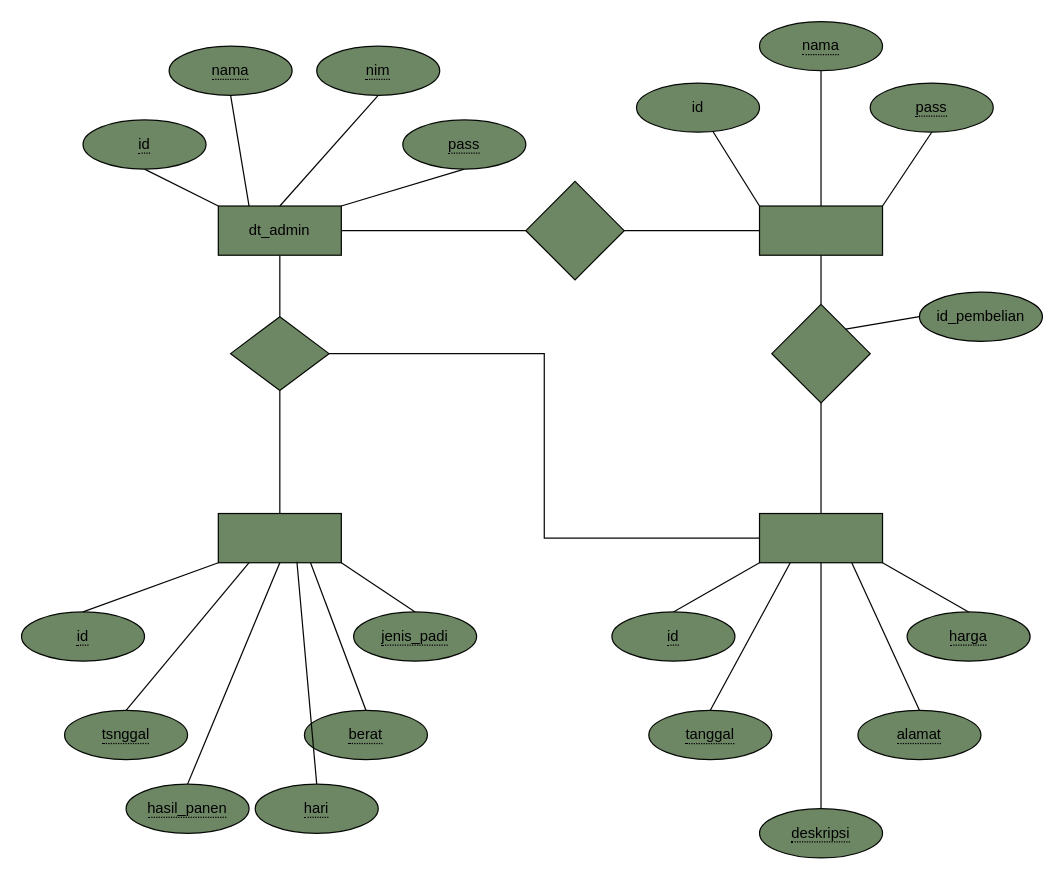
Some shapes in this 1064 by 879 pixel diagram are drawn without their labels. Each missing label, with the centre of its shape:
"Melayani" goes at (x=574, y=230).
"Membeli" goes at (x=820, y=353).
"menginput" goes at (x=279, y=353).
"padi" goes at (x=820, y=537).
"panen" goes at (x=279, y=537).
"user" goes at (x=820, y=230).
